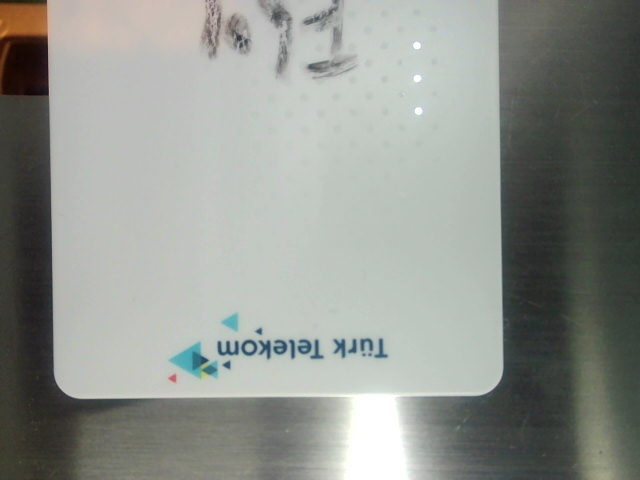AQ_TURKTelekom: (158, 296, 401, 386)
